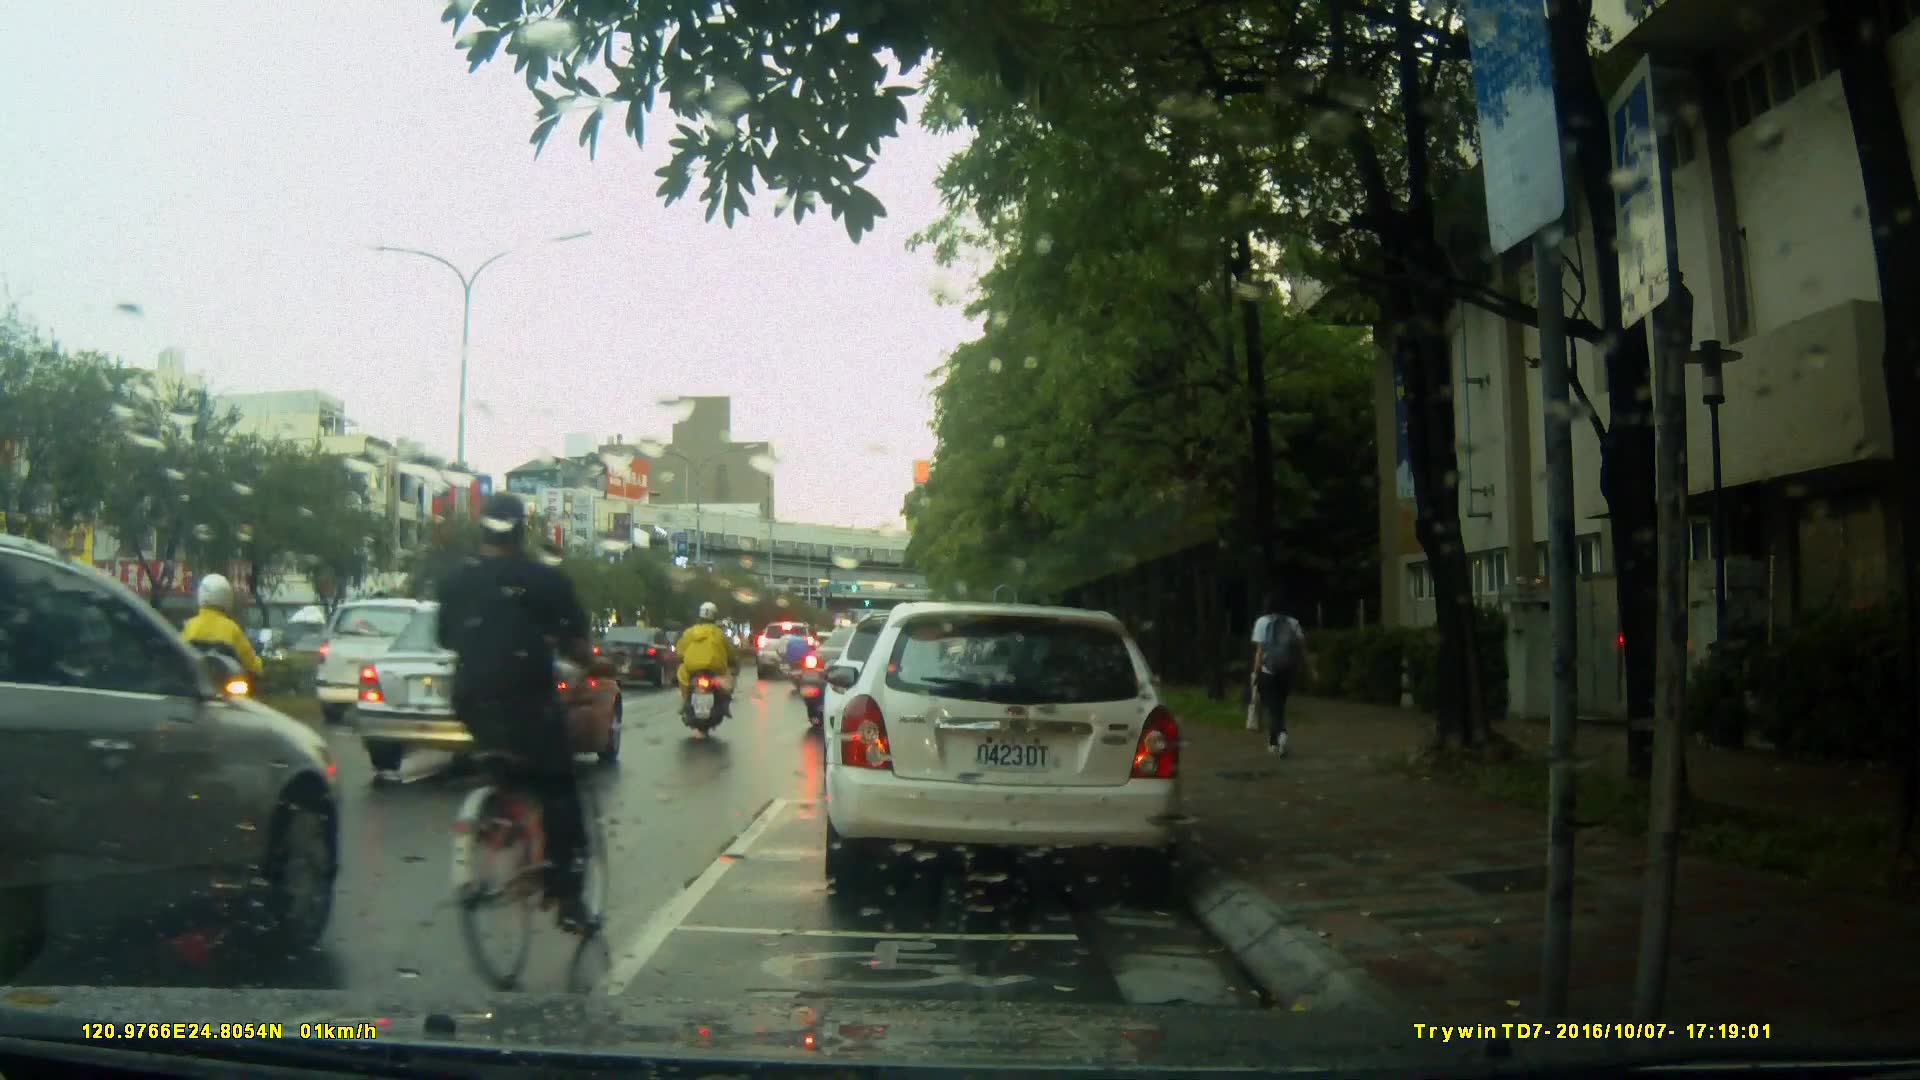pedestrian: (1249, 576, 1313, 762)
rider: (434, 494, 612, 982), (168, 578, 279, 807), (673, 596, 739, 747), (692, 614, 726, 704), (785, 620, 817, 702)
vehicle: (2, 529, 353, 987), (820, 602, 1188, 898), (356, 602, 638, 780), (314, 597, 513, 727), (585, 624, 687, 691)
